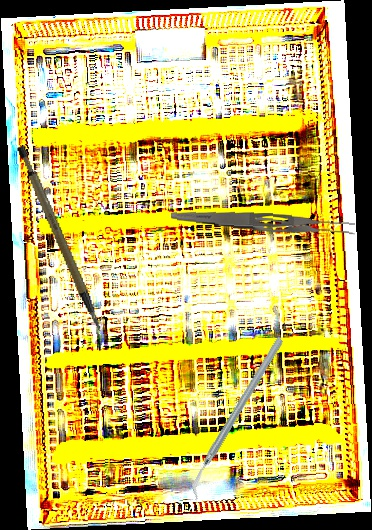Chopper: (145, 335, 329, 501)
Dressing Forceps: (170, 208, 356, 238)
Scalpel Handle: (13, 138, 104, 343)
